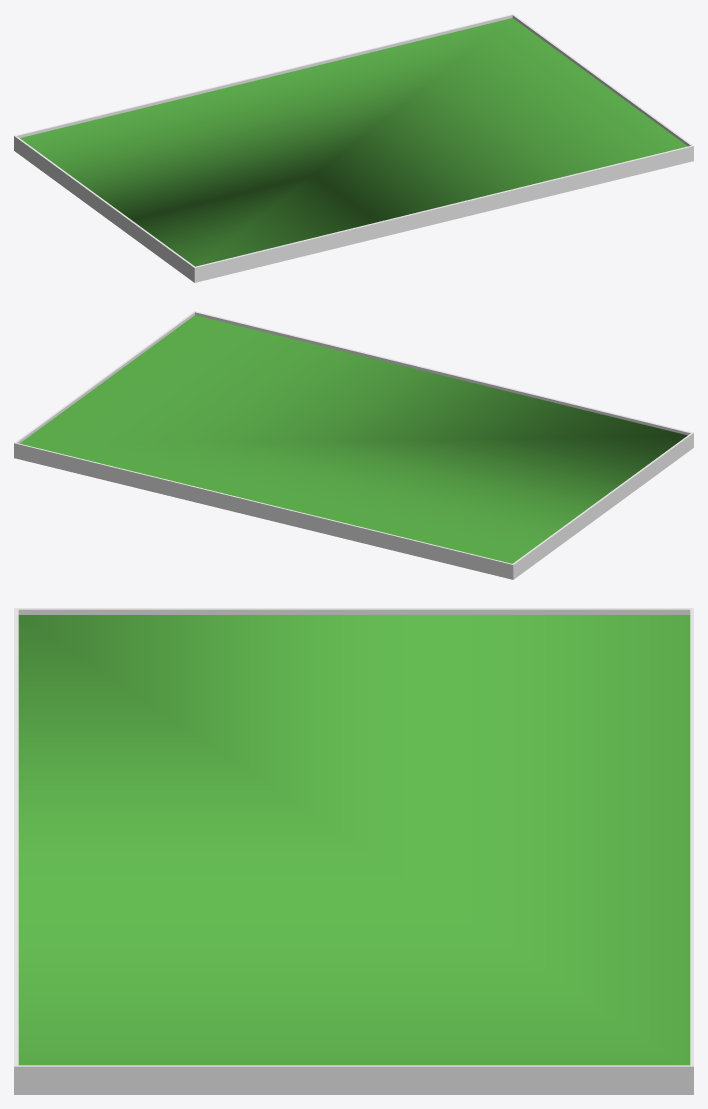
Rendered from stand.glb.
3 renders of one model, top to bottom at view 1: azimuth 30°, elevation 25°; view 2: azimuth 150°, elevation 25°; view 3: azimuth 270°, elevation 25°, orthographic. The views are drawn at different scales.
Visible parts, largest first — view 1: Основа; view 2: Основа; view 3: Основа.
Part boxes in pixels (bbox=[...]): Основа: bbox=[14, 14, 693, 282]; Основа: bbox=[14, 311, 693, 579]; Основа: bbox=[14, 608, 693, 1094].
Size of the model in its own units: 380 by 10.84 by 238.
